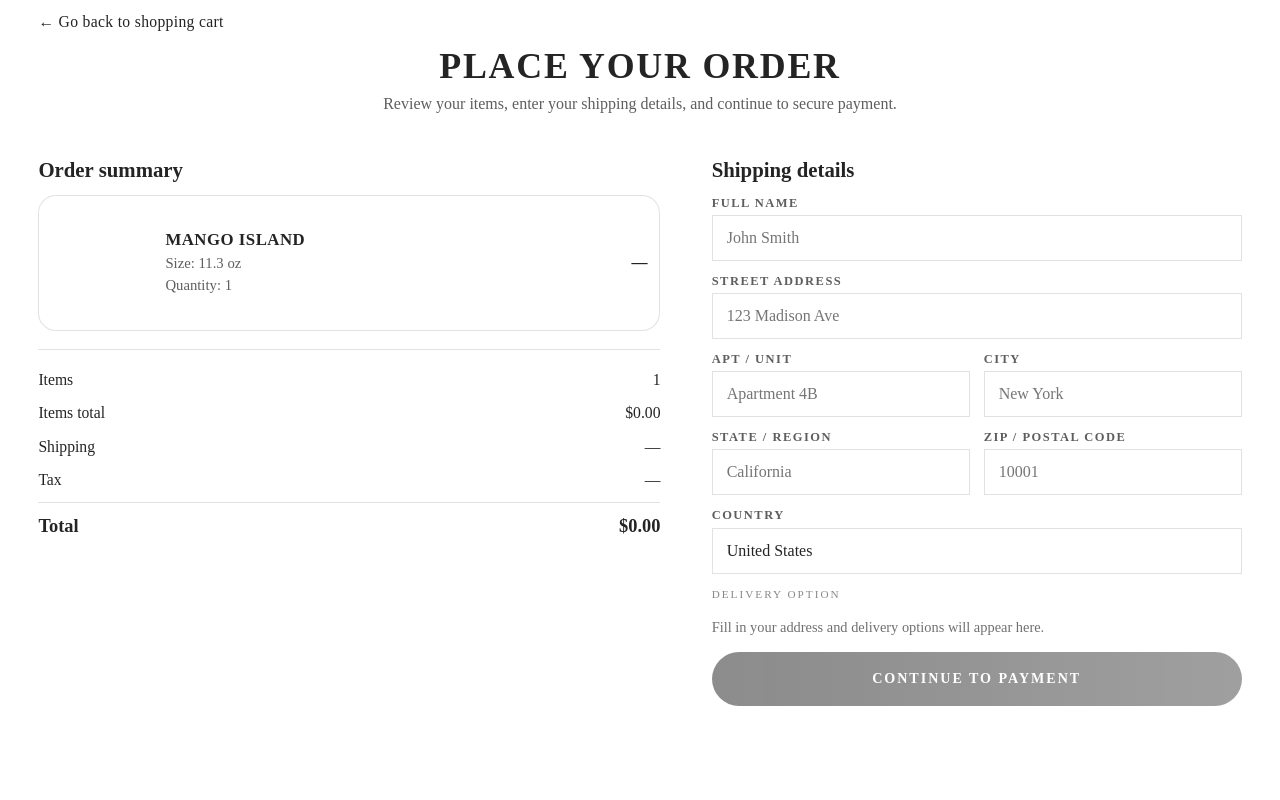
Scenario: checkout address › keeps what the shopper typed if they start before the account answers
// A gift going elsewhere: a different name and city, typed first.
Type "Carol Clark" into the field with id "checkout-full-name". click: (977, 238)
box: [712, 215, 1242, 261]
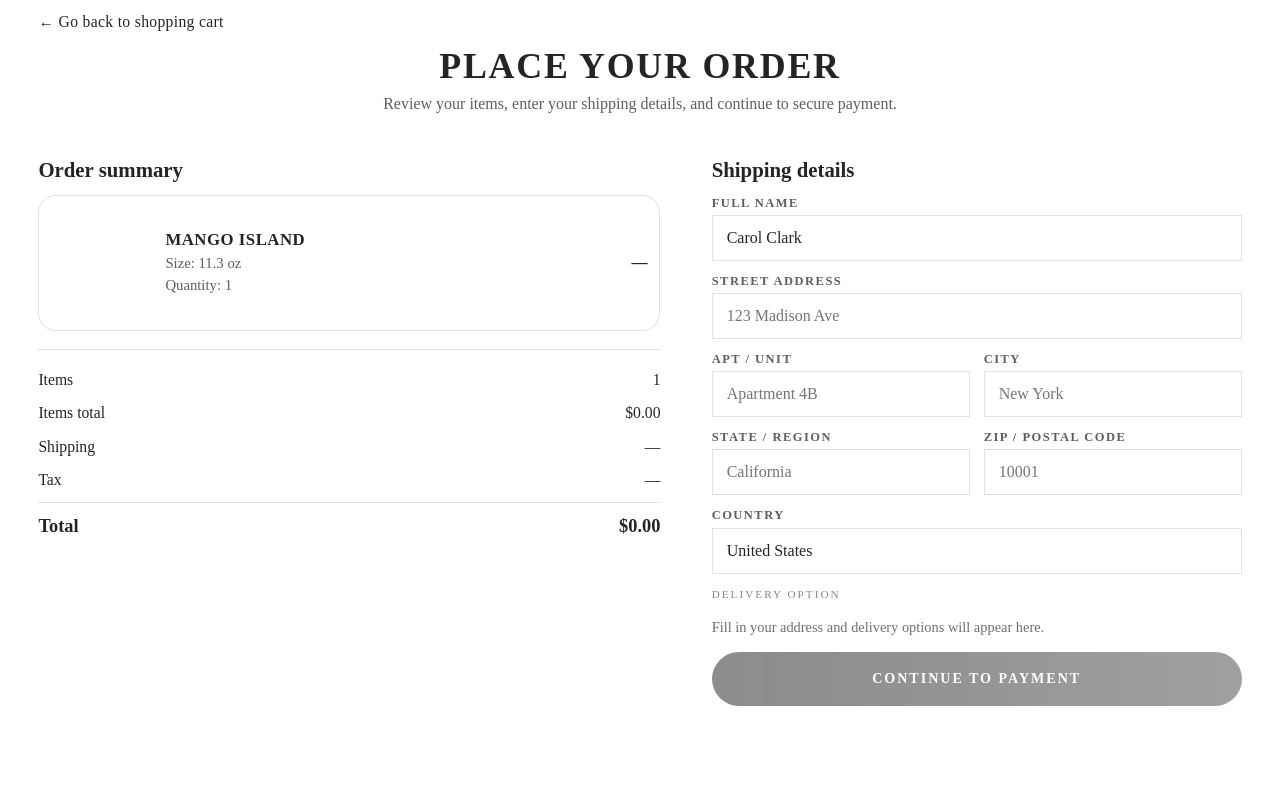
Type "Boston" into the field with id "checkout-city". click: (1113, 394)
box: [984, 371, 1242, 417]
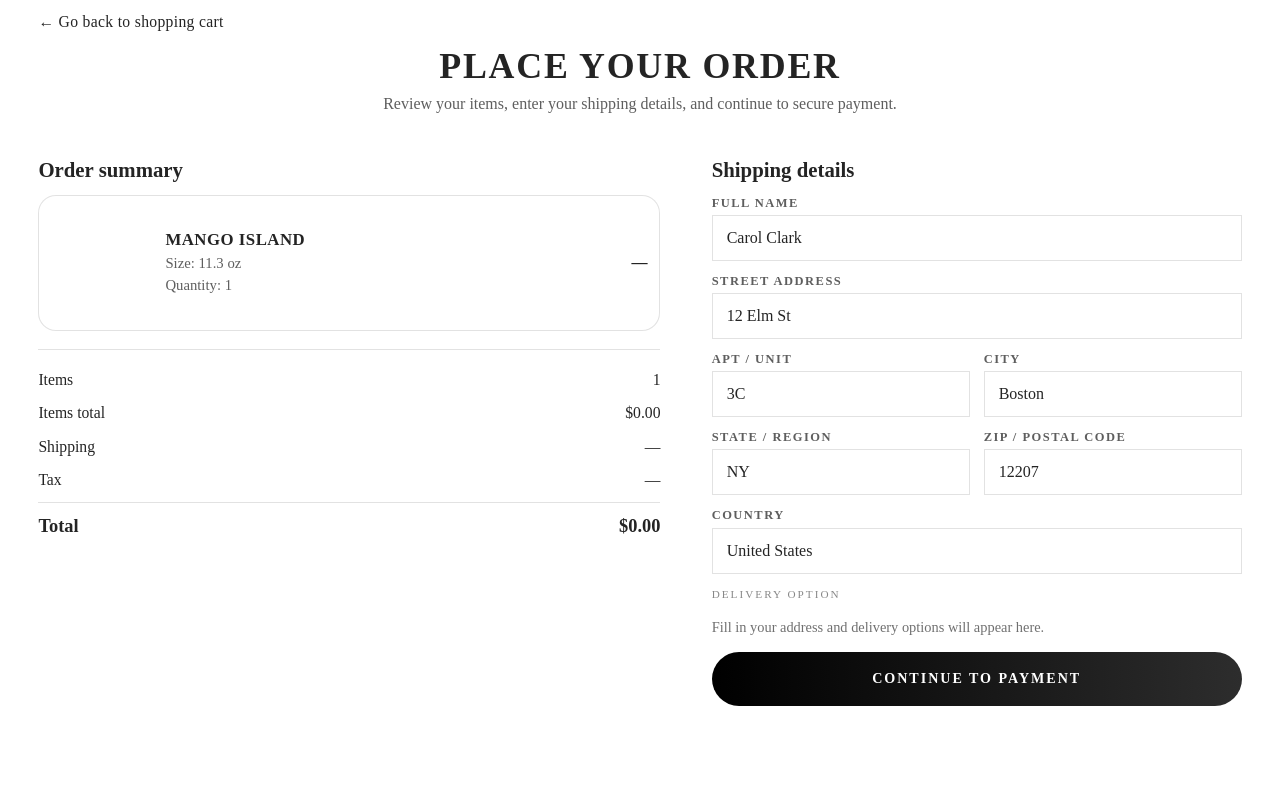
Now the field with id "checkout-address-1" holds "12 Elm St", box [712, 293, 1242, 339]
Now the field with id "checkout-postal-code" holds "12207", box [984, 450, 1242, 496]
